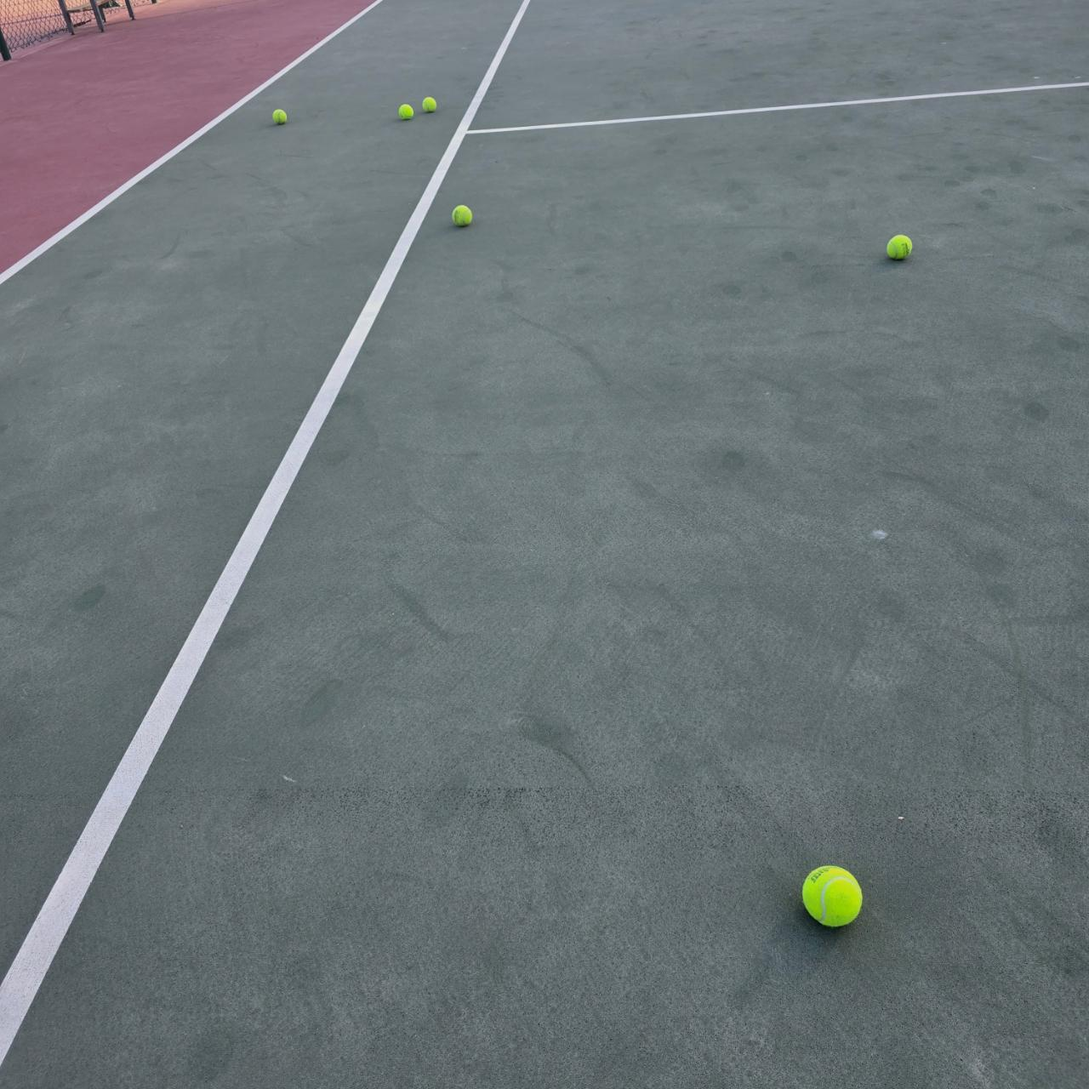tennis-ball: (801, 863, 864, 928), (887, 231, 915, 260), (453, 202, 475, 226), (398, 102, 415, 120), (422, 94, 439, 112), (273, 106, 288, 123)
